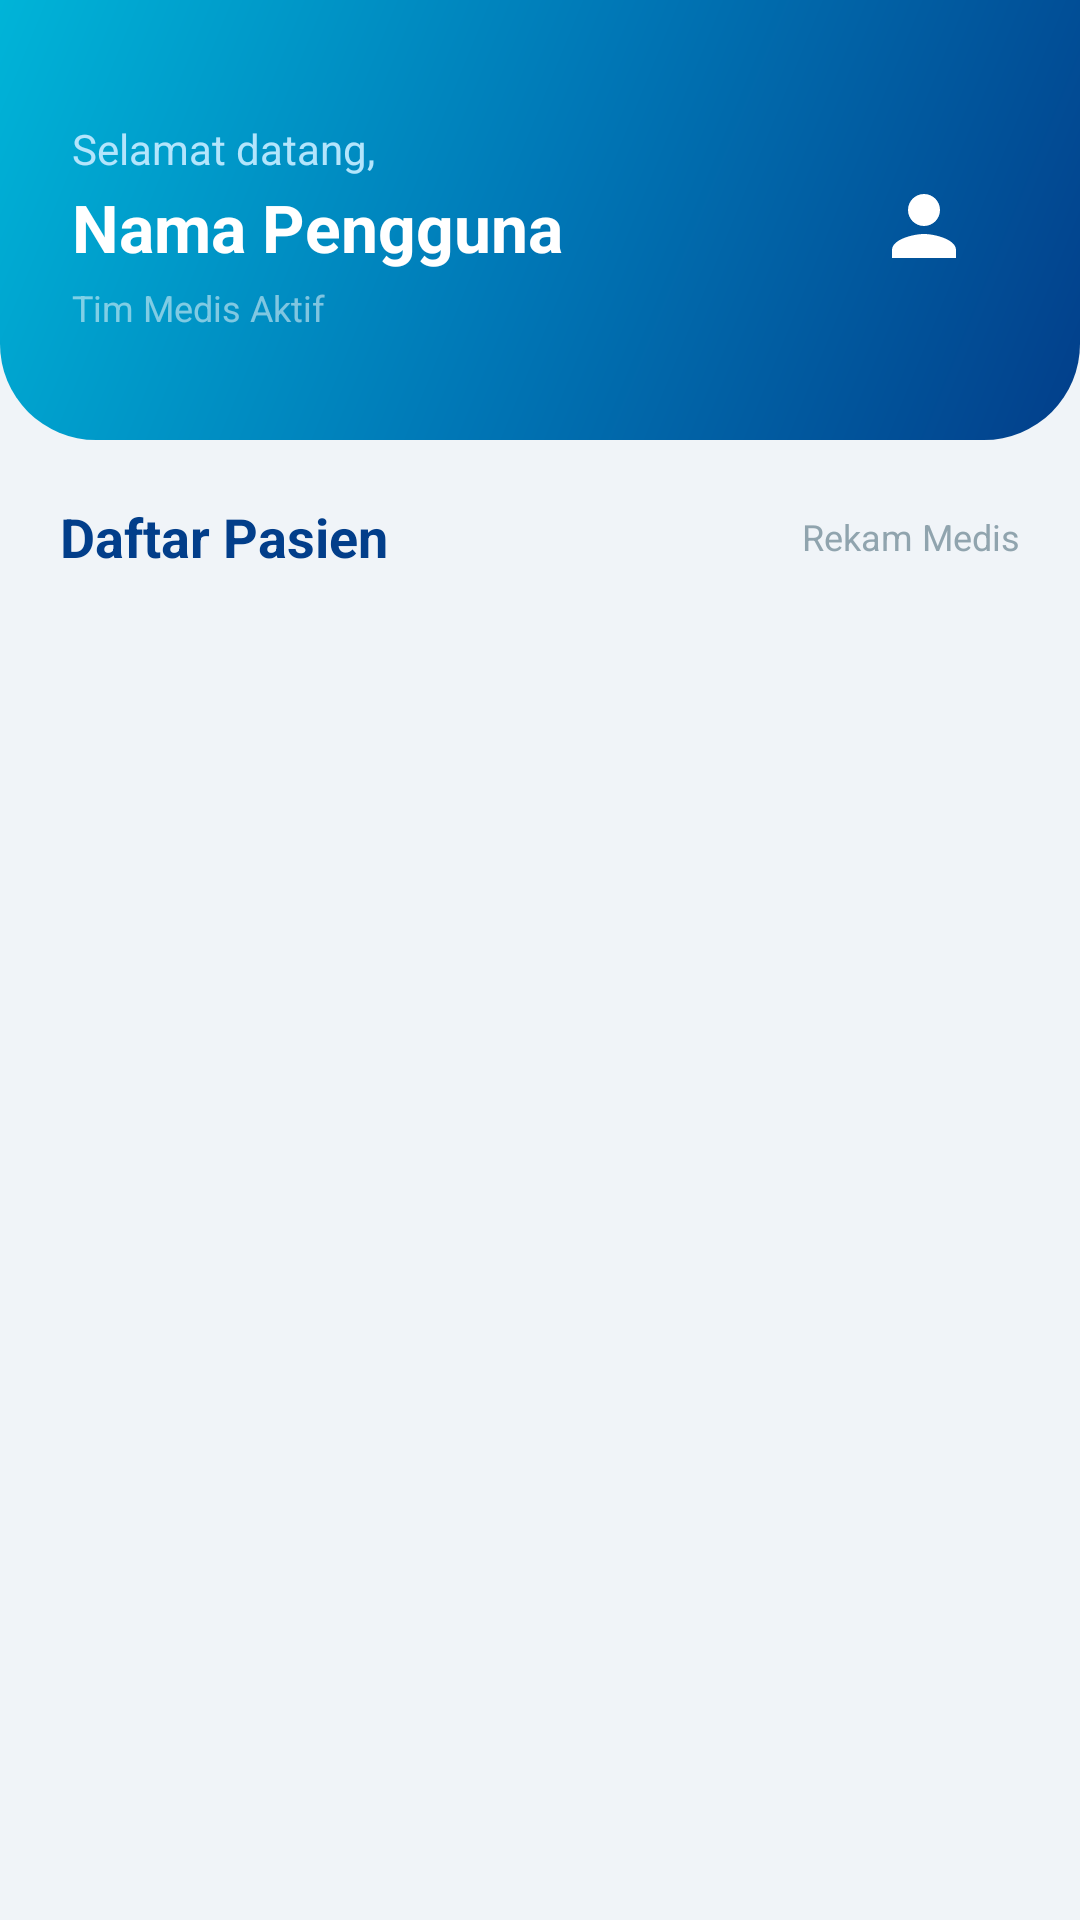

Locate icon controls on the screen. Image size 1080 x 1920, boxes as (x1, y1, x2, y2).
Avatar Profil: (892, 194, 956, 258)
